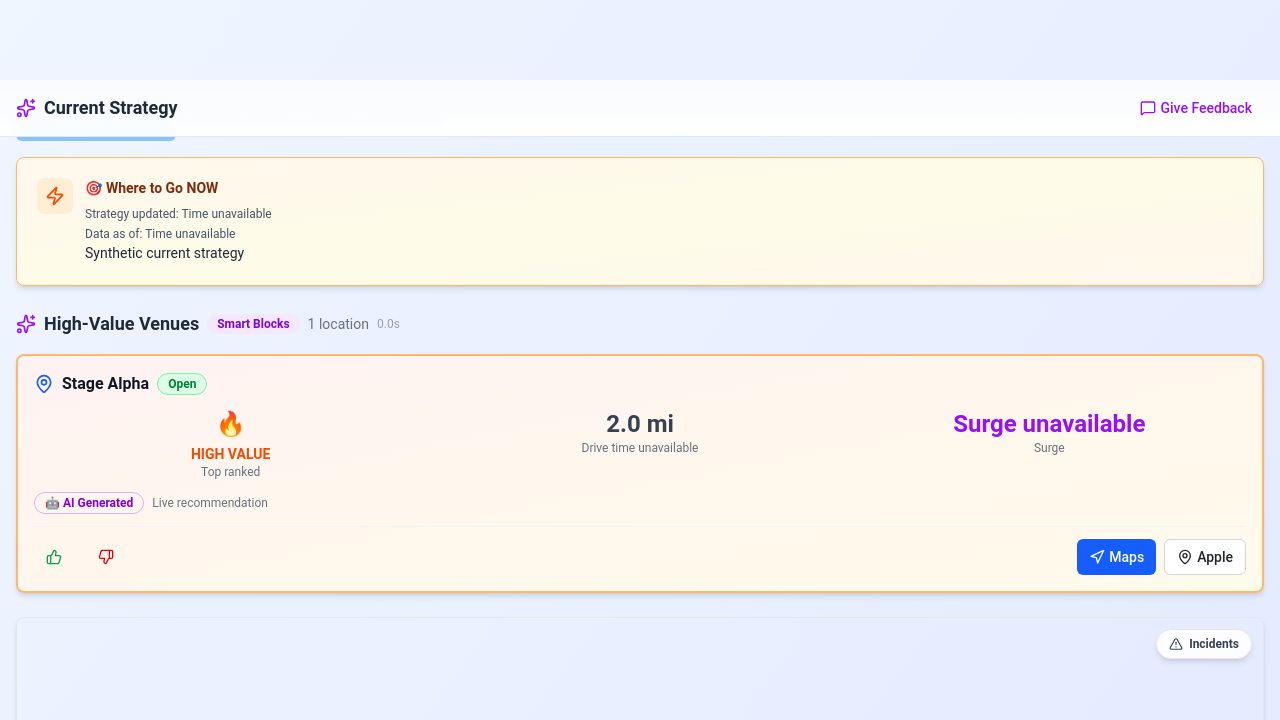
Test: an exhausted pool leaves an honest empty list and an available Undo
Click the button named "Remove Stage Alpha from this strategy": (106, 557) [86, 539, 126, 575]
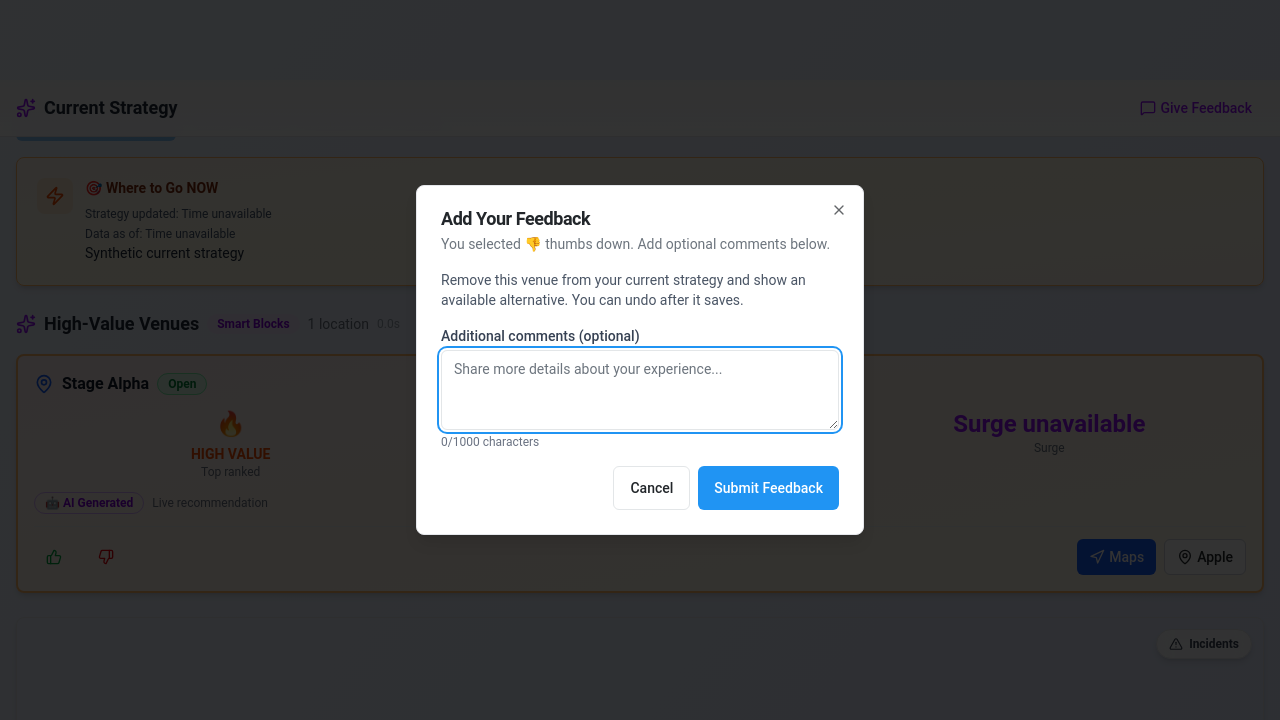
In the text box labelled "Additional comments (optional)": (640, 390) [441, 350, 839, 430], type "This is quiet right now"
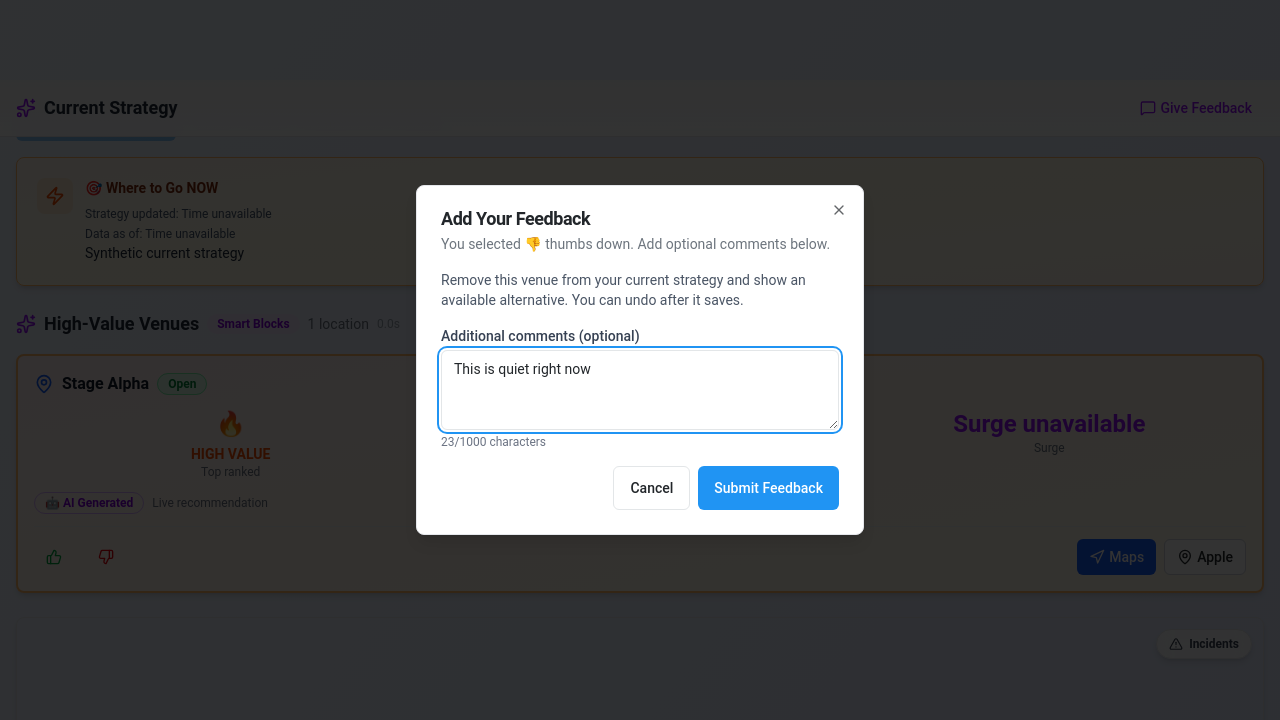
Click the button with test id "button-submit-feedback": (769, 488) [698, 466, 839, 510]
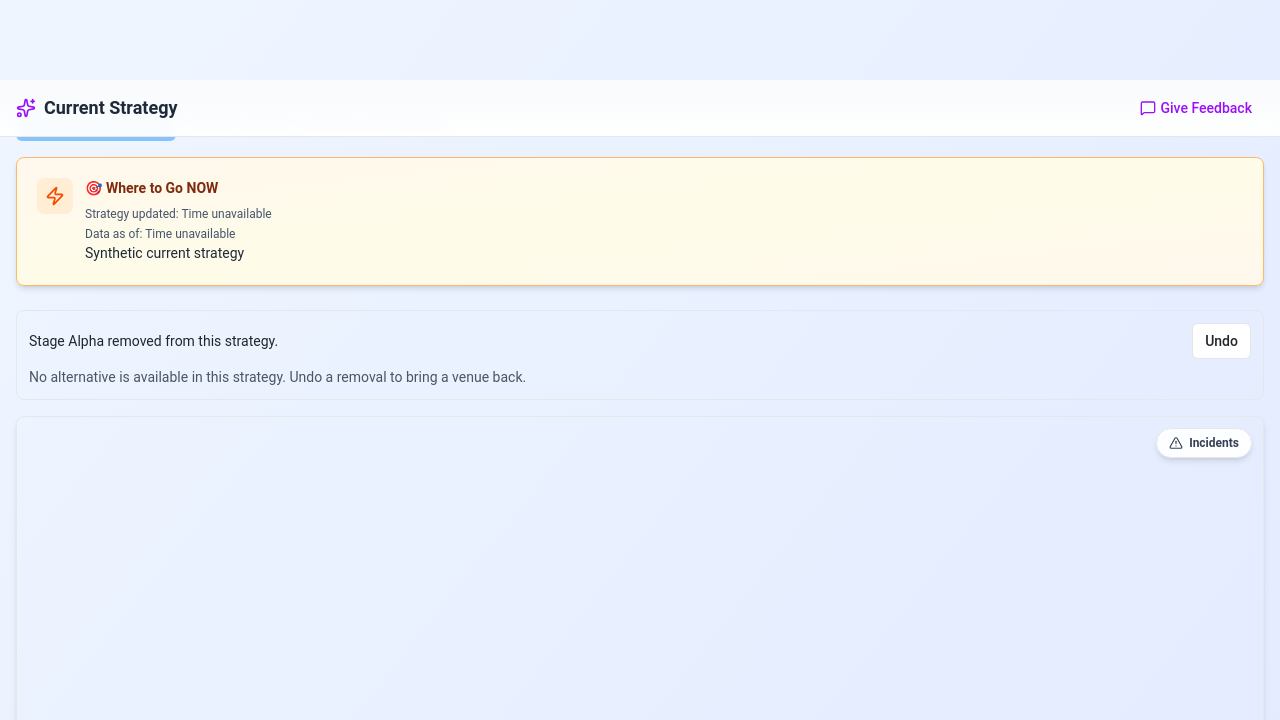
Now the text "No alternative is available in this strategy. Undo a removal to bring a venue back." is shown, box [29, 369, 526, 385]
Now the button with aria-label "Undo removal of Stage Alpha" is enabled, box [1192, 323, 1251, 359]
